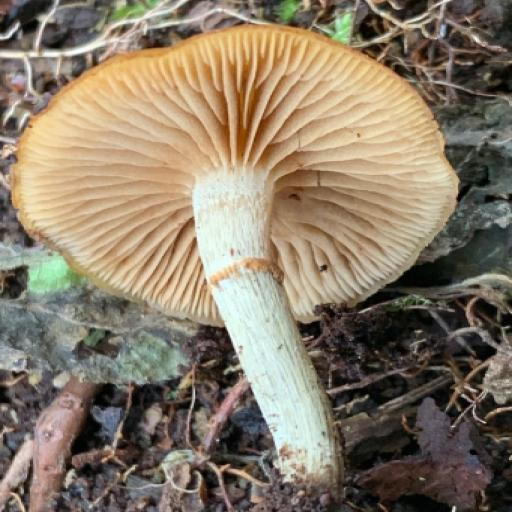mushroom: (10, 19, 467, 372)
